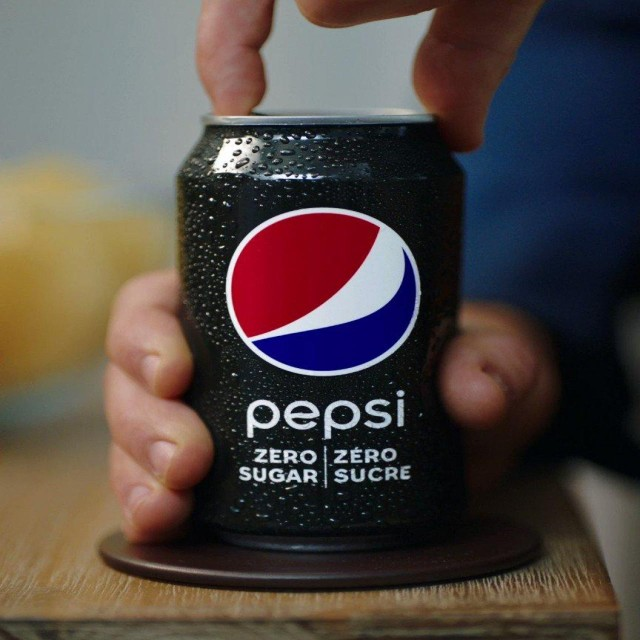pepsi: (225, 200, 430, 378)
